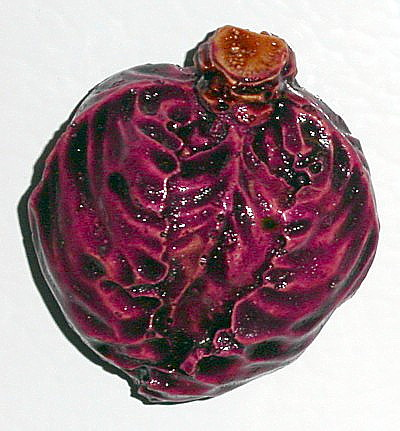cabbage: (23, 23, 379, 406)
